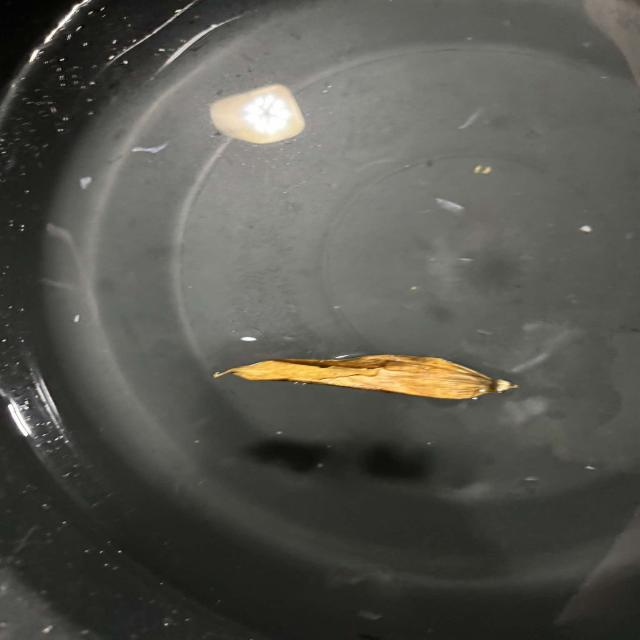Plastic Wrapper: (213, 355, 516, 400)
